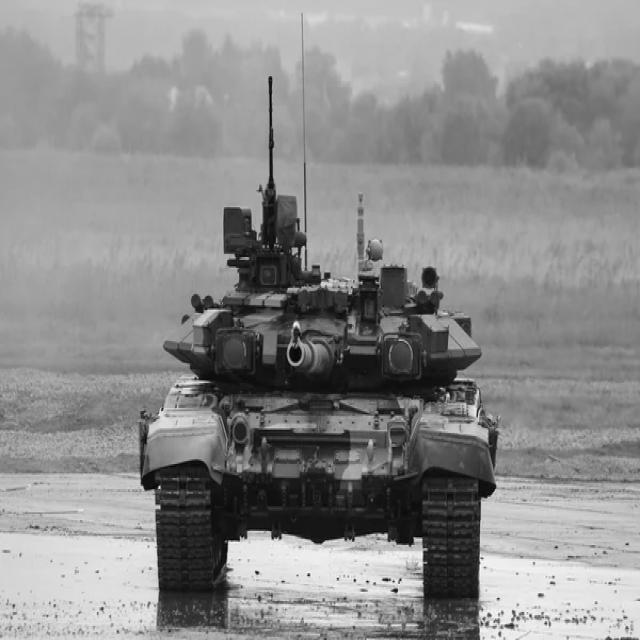Tank: (142, 93, 501, 622)
